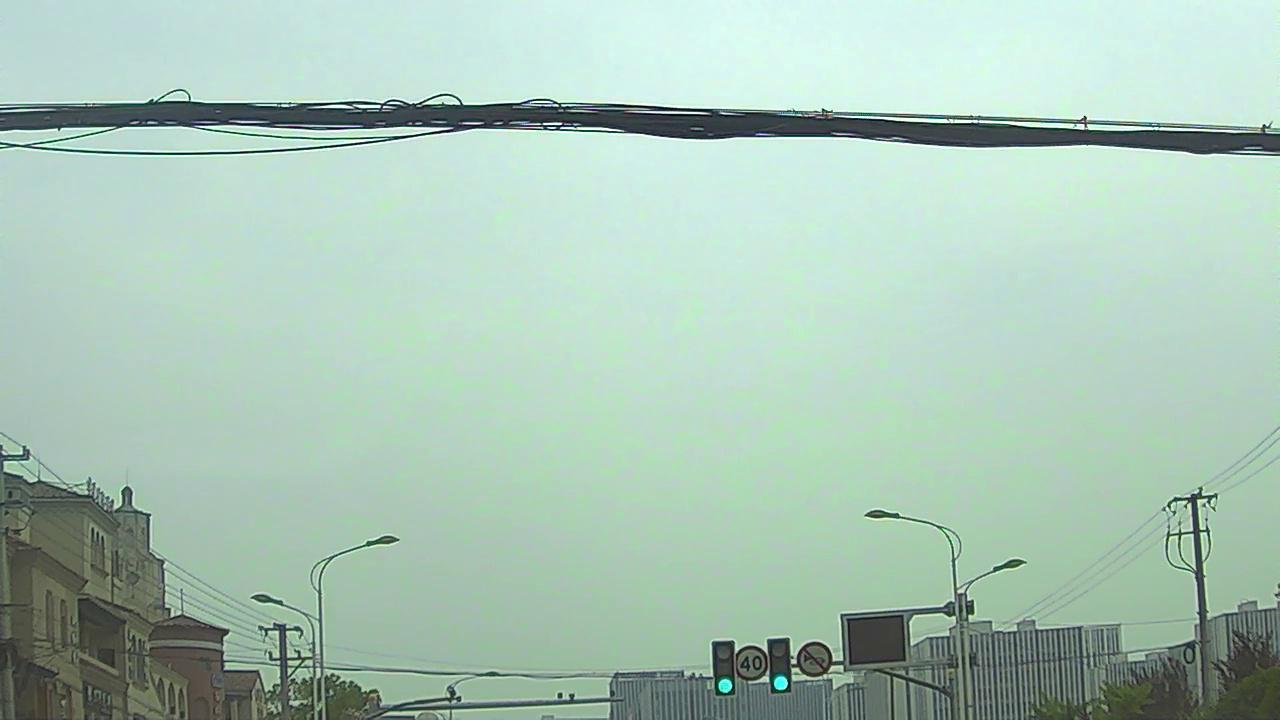traffic_light: (768, 639, 793, 690), (715, 641, 736, 693)
